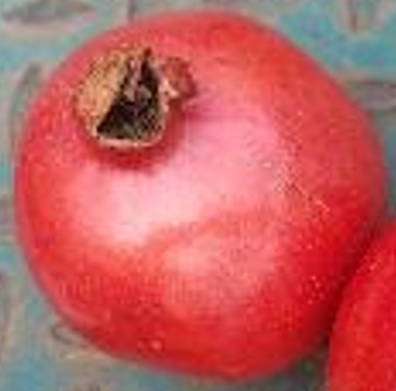pomegranate_A: (13, 9, 388, 383)
